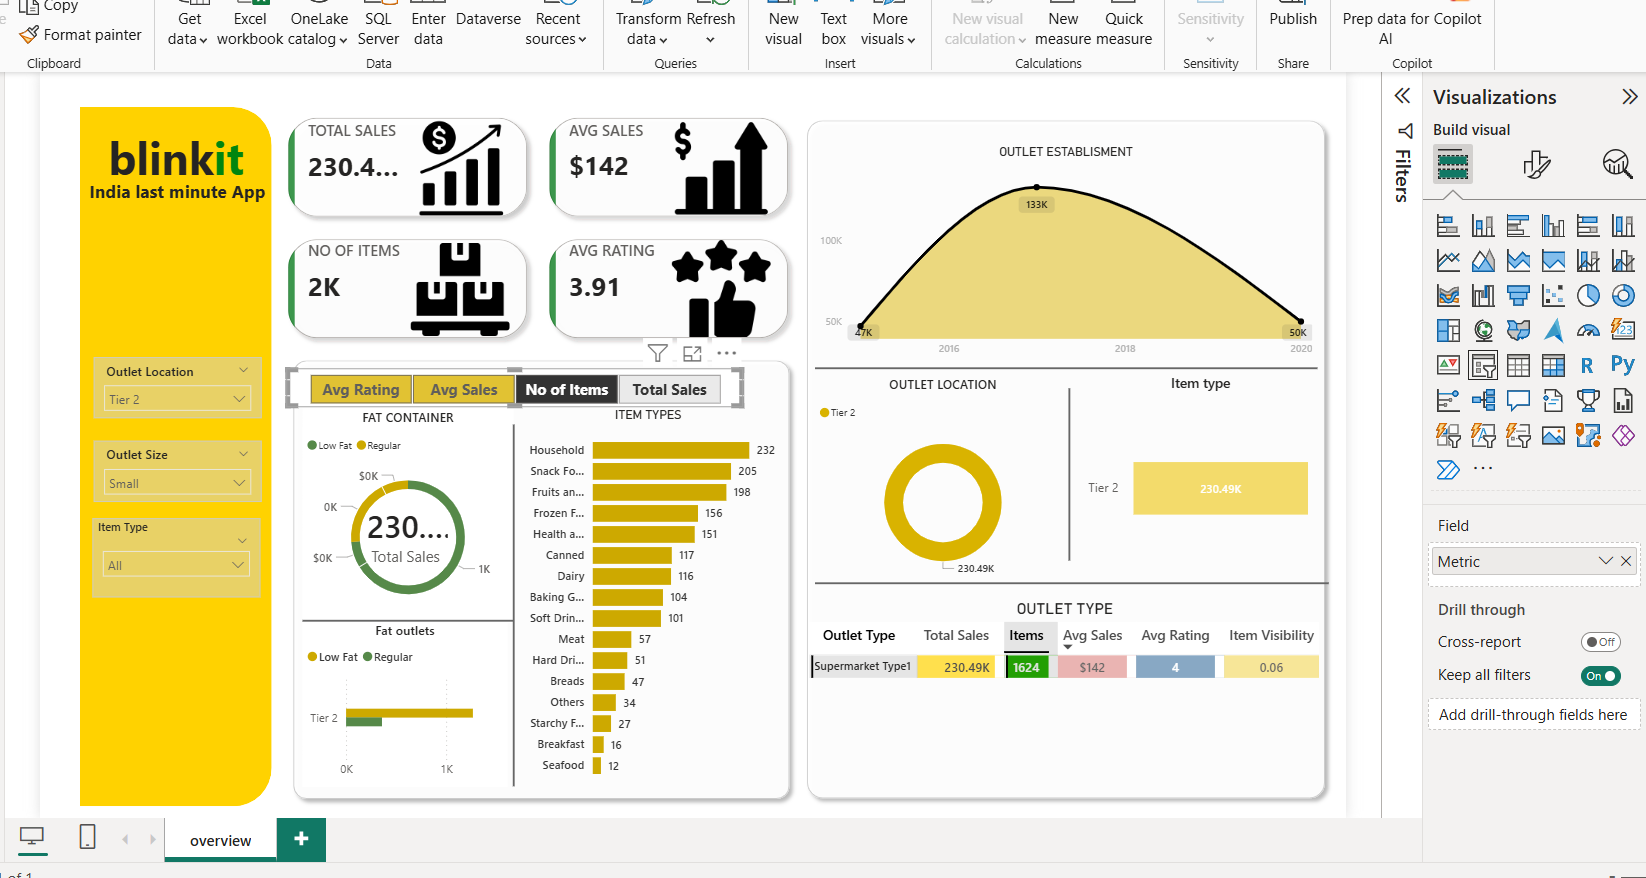

Layout of this report page (visuals, bound fields, positions):
{"tool":"powerbi","page":{"name":"overview","canvas":[1400,800],"ordinal":0},"visuals":[{"type":"shape","box":[43.5,37.5,205.6,750],"z":0},{"type":"textbox","box":[68.3,53.3,180,113.3],"z":1000},{"type":"textbox","box":[43.3,110,263.3,41.7],"z":2000},{"type":"cardVisual","fields":{"Data":["mesure table.Total Sales","mesure table.Avg Sales","mesure table.No of Items","mesure table.Avg Rating"]},"box":[249.2,31.7,570.8,270],"z":3000},{"type":"shape","box":[263.3,300,550,488.3],"z":4000},{"type":"slicer","fields":{"Values":["Metric.Metric"]},"box":[264.1,317.7,489.3,41.6],"z":5000},{"type":"donutChart","title":"FAT CONTAINER","fields":{"Y":["mesure table.No of Items","mesure table.Avg Sales"],"Category":["BlinkIT Grocery Data.Item Fat Content"]},"box":[281.7,360,226.7,230],"z":6000},{"type":"cardVisual","fields":{"Data":["mesure table.Total Sales"]},"box":[336.7,461.7,111.7,70],"z":7000},{"type":"clusteredBarChart","title":"Fat outlets","fields":{"Y":["mesure table.No of Items"],"Category":["BlinkIT Grocery Data.Outlet Location Type"],"Series":["BlinkIT Grocery Data.Item Fat Content"]},"box":[281.7,590,220,176.7],"z":8000},{"type":"shape","box":[281.5,568.4,226.5,40.2],"z":9000},{"type":"shape","box":[501.7,378.3,13.3,388.3],"z":10000},{"type":"barChart","title":"ITEM TYPES","fields":{"Y":["mesure table.No of Items"],"Category":["BlinkIT Grocery Data.Item Type"]},"box":[508.3,360,288.3,406.7],"z":11000},{"type":"shape","box":[813.3,43.3,573.3,745],"z":12000},{"type":"lineChart","title":"OUTLET ESTABLISMENT","fields":{"Y":["mesure table.Total Sales"],"Category":["BlinkIT Grocery Data.Outlet Establishment Year"]},"box":[831.7,78.3,538.3,235],"z":13000},{"type":"shape","box":[831.1,297.6,538.9,40.2],"z":14000},{"type":"donutChart","title":"OUTLET LOCATION","fields":{"Y":["mesure table.Total Sales"],"Category":["BlinkIT Grocery Data.Outlet Location Type"]},"box":[831.1,325.7,274.8,225.2],"z":15000},{"type":"shape","box":[1100.5,339.1,6.7,185],"z":16000},{"type":"funnel","title":"Item type","fields":{"Y":["Sum(BlinkIT Grocery Data.Sales)"],"Category":["BlinkIT Grocery Data.Outlet Location Type"]},"box":[1119.3,323.1,250.7,225.2],"z":17000},{"type":"shape","box":[831.1,528.2,550.9,40.2],"z":18000},{"type":"pivotTable","title":"OUTLET TYPE","fields":{"Rows":["BlinkIT Grocery Data.Outlet Type"],"Values":["mesure table.Total Sales","mesure table.No of Items","mesure table.Avg Sales","mesure table.Avg Rating","Avg(BlinkIT Grocery Data.Item Visibility)"]},"box":[820.4,565.7,557.6,127.3],"z":19000},{"type":"slicer","fields":{"Values":["BlinkIT Grocery Data.Outlet Location Type"]},"box":[57.6,305.6,179.6,65.7],"z":20000},{"type":"slicer","fields":{"Values":["BlinkIT Grocery Data.Outlet Size"]},"box":[57.6,395.4,179.6,65.7],"z":21000},{"type":"slicer","title":"Item Type","fields":{"Values":["BlinkIT Grocery Data.Item Type"]},"box":[56.3,478.6,179.6,84.5],"z":22000}]}

Visuals, with their boxes on the page's 1400x800 design canvas (x1, y1, x2, y2). These are canvas units, not pixel positions in the 1646x878 screenshot, which may show the page scaled, cropped or inside an application window:
shape: x1=44, y1=38, x2=249, y2=788
textbox: x1=68, y1=53, x2=248, y2=167
textbox: x1=43, y1=110, x2=307, y2=152
cardVisual - mesure table.Total Sales x mesure table.Avg Sales: x1=249, y1=32, x2=820, y2=302
shape: x1=263, y1=300, x2=813, y2=788
slicer - Metric.Metric: x1=264, y1=318, x2=753, y2=359
"FAT CONTAINER" donutChart: x1=282, y1=360, x2=508, y2=590
cardVisual - mesure table.Total Sales: x1=337, y1=462, x2=448, y2=532
"Fat outlets" clusteredBarChart: x1=282, y1=590, x2=502, y2=767
shape: x1=282, y1=568, x2=508, y2=609
shape: x1=502, y1=378, x2=515, y2=767
"ITEM TYPES" barChart: x1=508, y1=360, x2=797, y2=767
shape: x1=813, y1=43, x2=1387, y2=788
"OUTLET ESTABLISMENT" lineChart: x1=832, y1=78, x2=1370, y2=313
shape: x1=831, y1=298, x2=1370, y2=338
"OUTLET LOCATION" donutChart: x1=831, y1=326, x2=1106, y2=551
shape: x1=1100, y1=339, x2=1107, y2=524
"Item type" funnel: x1=1119, y1=323, x2=1370, y2=548
shape: x1=831, y1=528, x2=1382, y2=568
"OUTLET TYPE" pivotTable: x1=820, y1=566, x2=1378, y2=693
slicer - BlinkIT Grocery Data.Outlet Location Type: x1=58, y1=306, x2=237, y2=371
slicer - BlinkIT Grocery Data.Outlet Size: x1=58, y1=395, x2=237, y2=461
"Item Type" slicer: x1=56, y1=479, x2=236, y2=563
